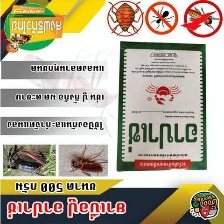insecticide: (112, 37, 211, 174)
